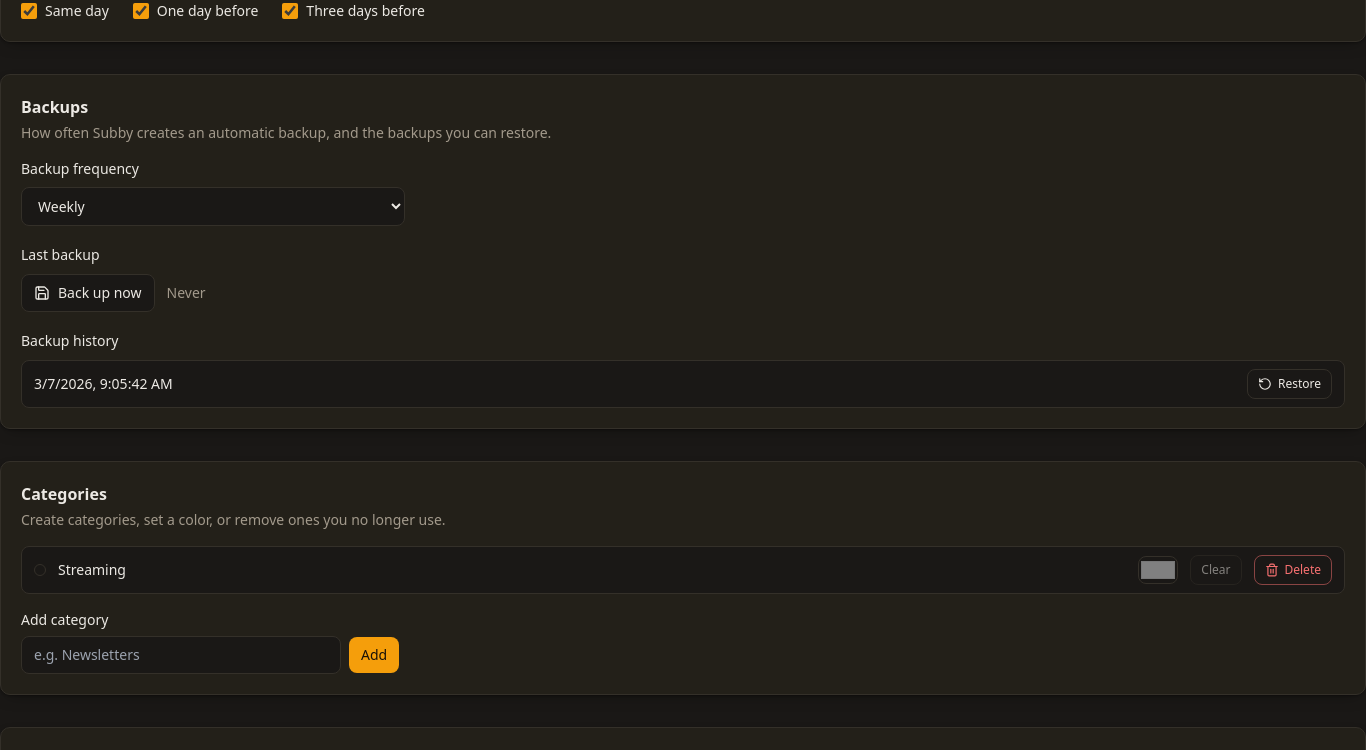
Test case: Backups section: history list + branded restore (Story 7.4) › clicking Restore opens the branded dialog (cancel is the focus default); Cancel runs NO restore
(page scrolled)
Click the button with aria-label "restore backup from". click: coordinates (1289, 384)
box: [1247,369,1332,399]
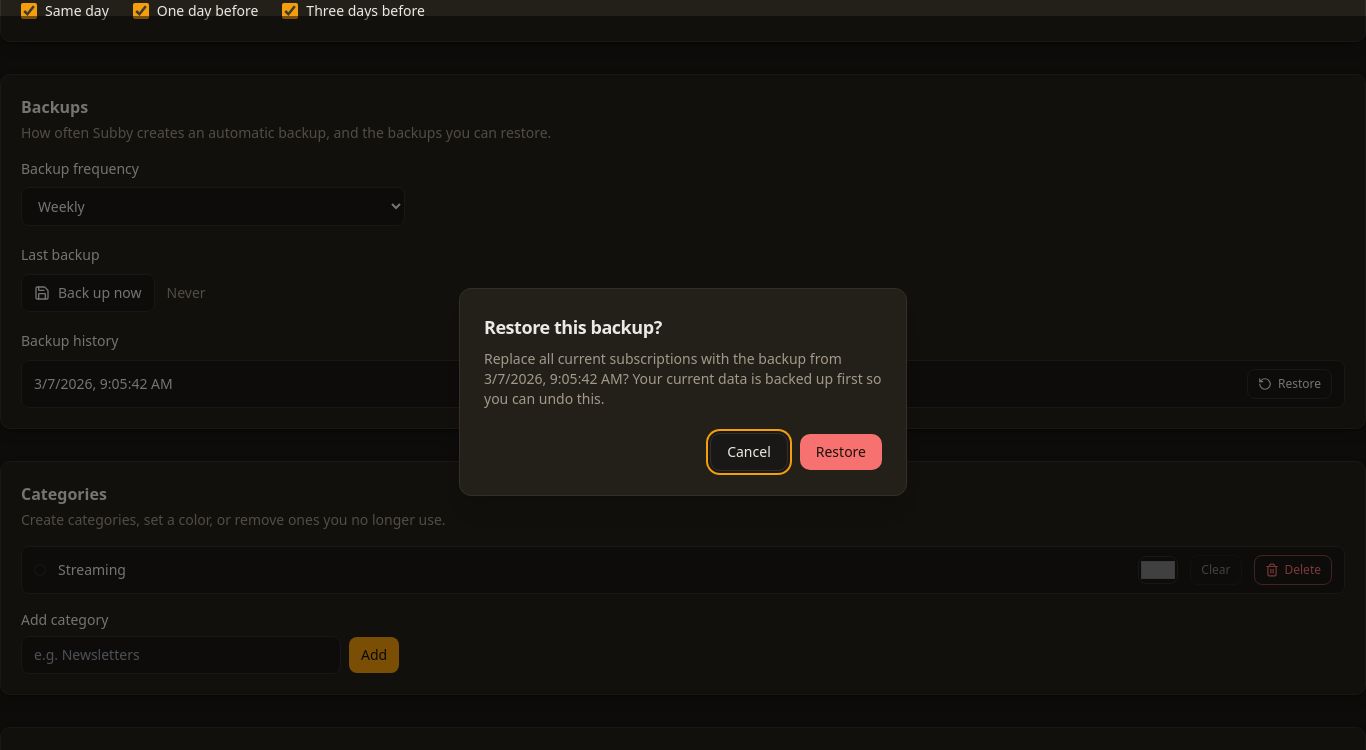
Now the text "backed up first so you can undo this" is shown, box [484,349,882,408]
Click the button "Cancel". click: coordinates (749, 452)
box: [710,433,788,471]
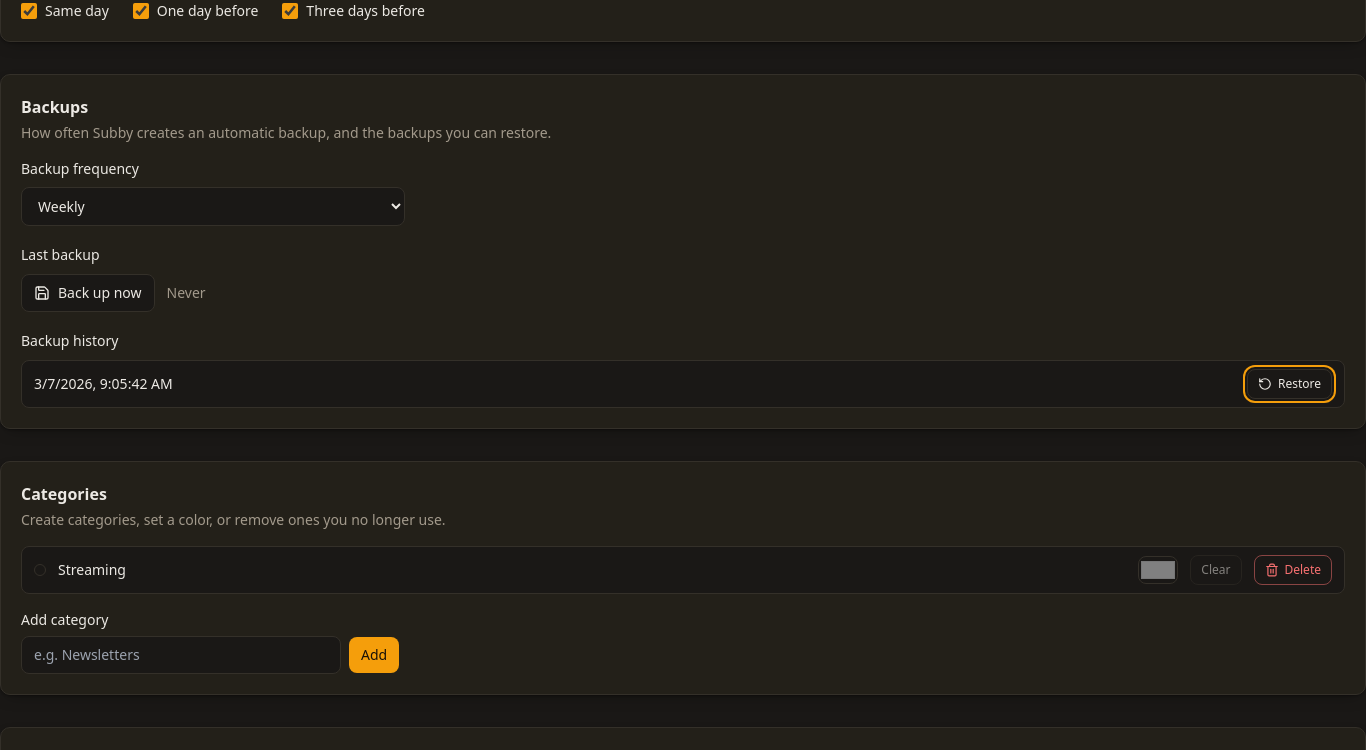
Now the dialog is gone
